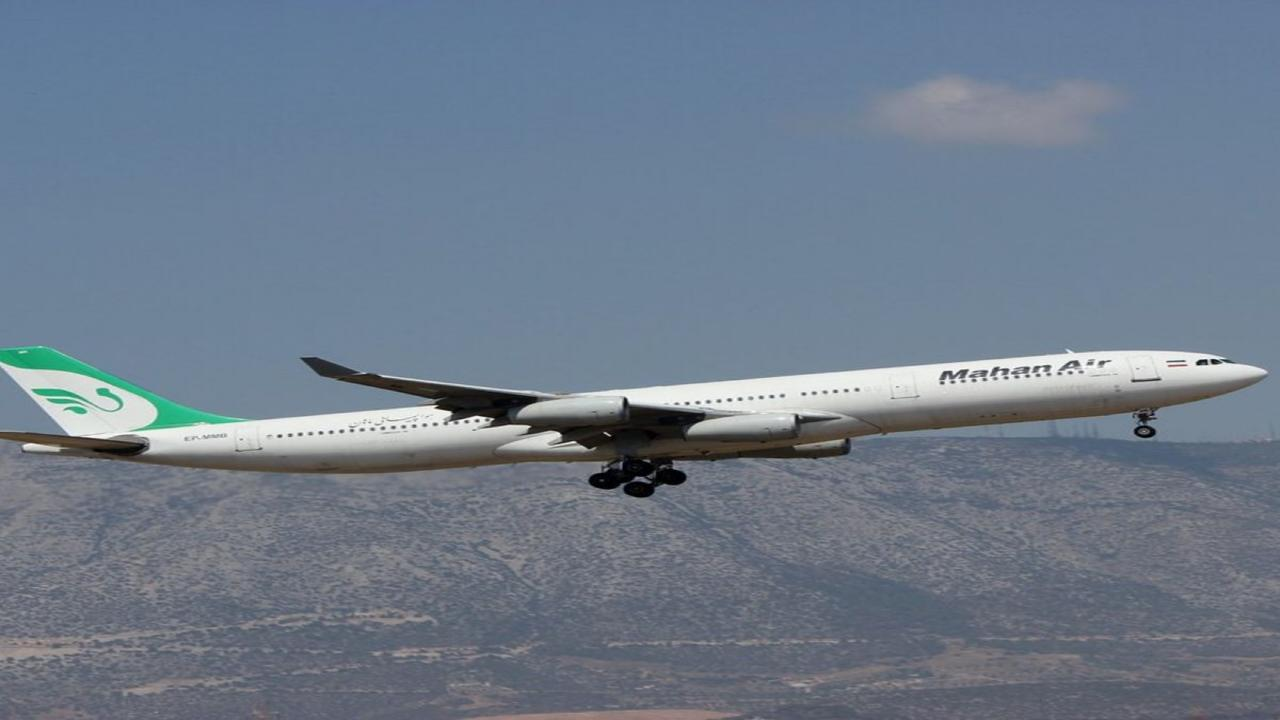Airplane: (0, 319, 1280, 515)
